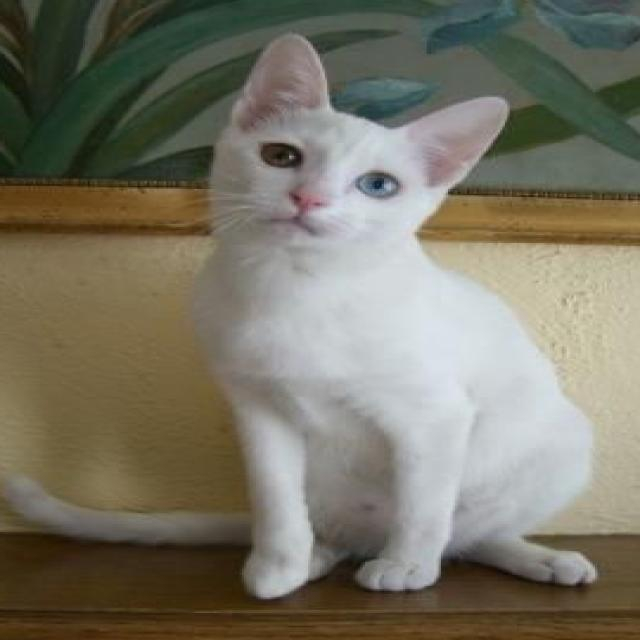Khao Manee: (0, 28, 604, 601)
